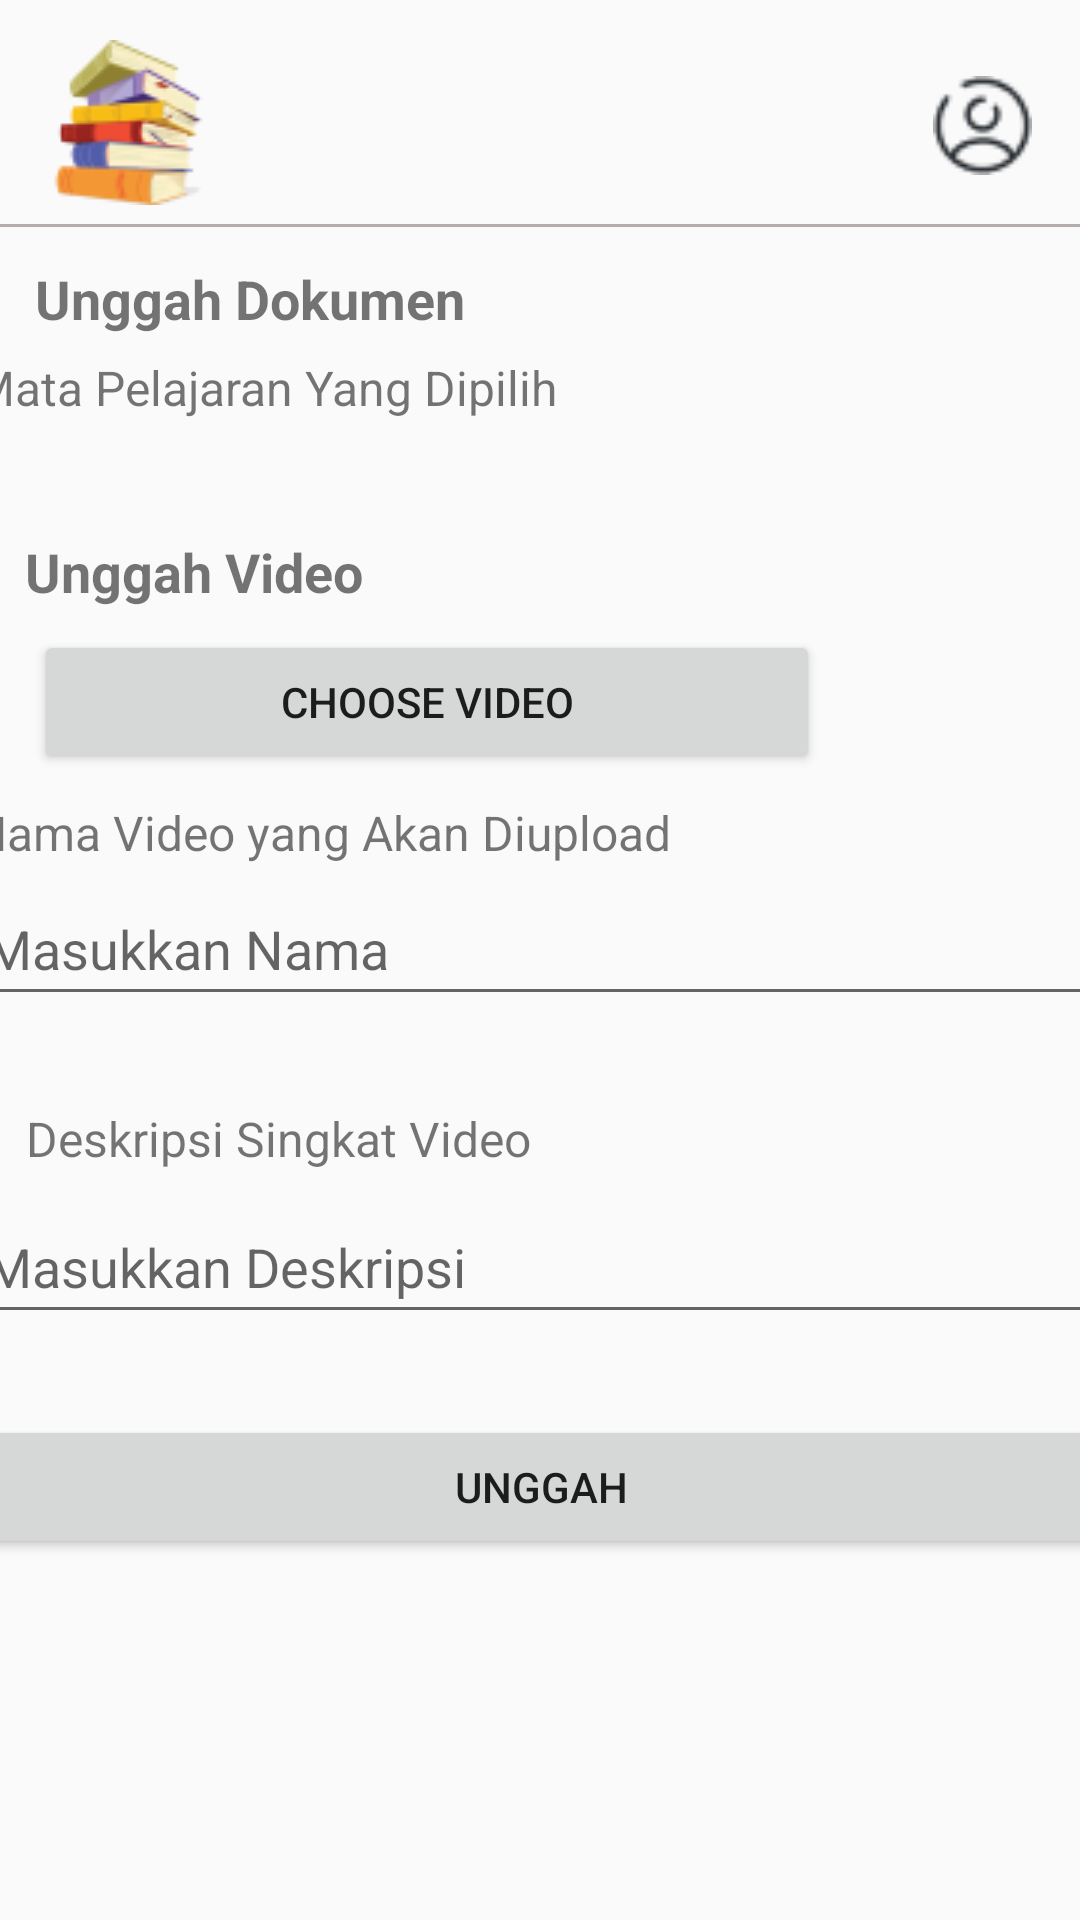

Screen size 1080 × 1920. Icon name, then its box in pixels as rect(x1, y1, x2, y2):
buku: rect(54, 40, 202, 205)
profile: rect(933, 76, 1032, 175)
